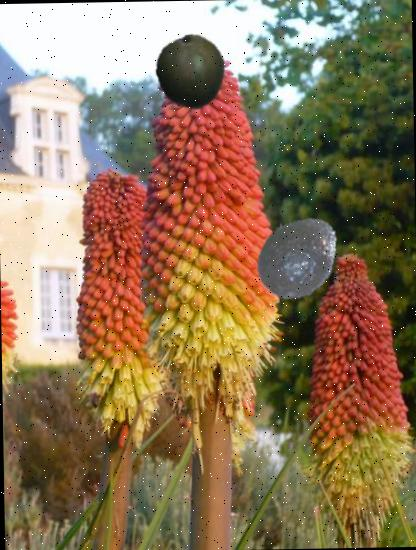Avocado: (250, 208, 344, 302)
Mango: (152, 34, 228, 110)
